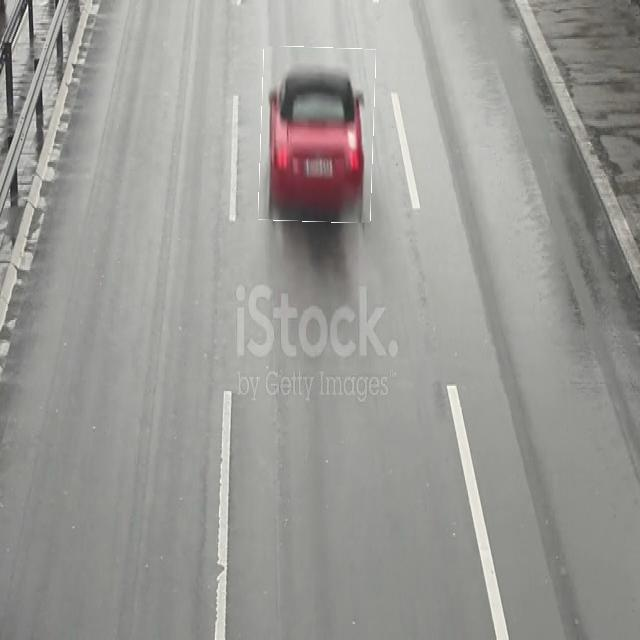Car: (260, 48, 374, 222)
